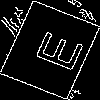E: (25, 25, 84, 74)
